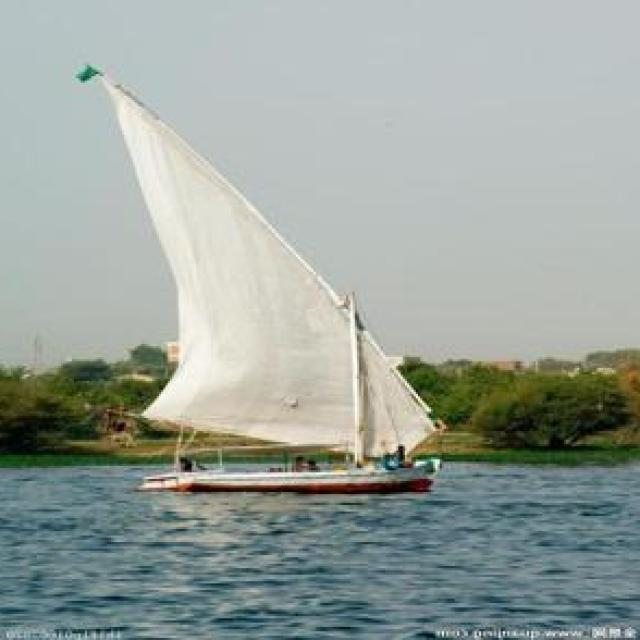sailboat: (88, 58, 441, 490)
